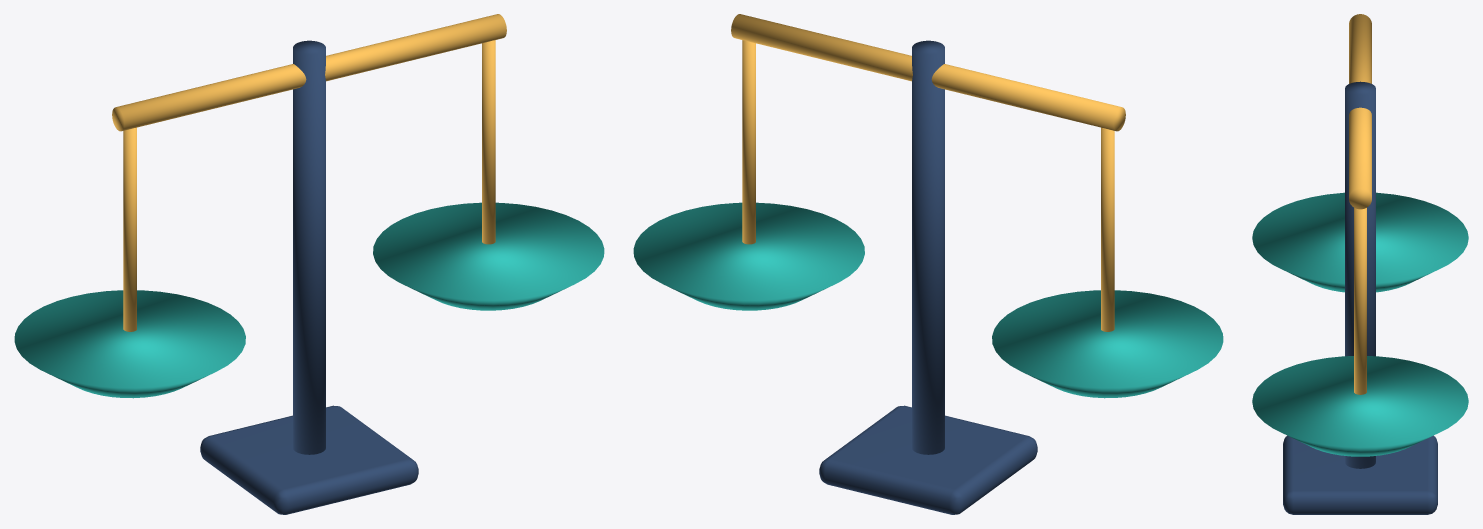
Rendered from balance-scale-quality.glb.
3 renders of one model, left to right at view 1: azimuth 30°, elevation 25°; view 2: azimuth 150°, elevation 25°; view 3: azimuth 270°, elevation 25°, orthographic. The views are drawn at different scales.
Parts seen in each view (by area): view 1: Stand; view 2: Stand; view 3: Stand.
Part boxes in pixels (bbox=[...]): Stand: bbox=[14, 14, 604, 514]; Stand: bbox=[633, 14, 1223, 514]; Stand: bbox=[1252, 14, 1468, 514].
Bounding box in the file's own units: 2.34 × 1.7 × 0.84.
